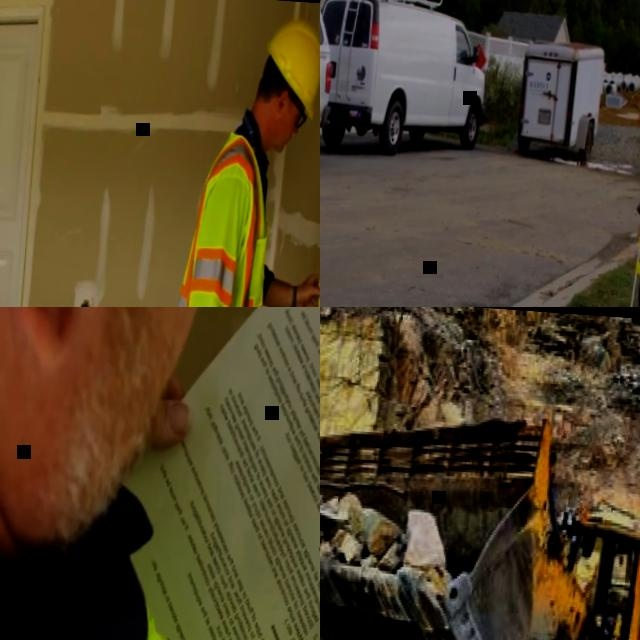Hardhat: (259, 19, 320, 119)
NO-Mask: (0, 307, 218, 559)
Person: (0, 307, 260, 640), (148, 10, 320, 307)
Safety Vest: (165, 128, 279, 307), (0, 579, 227, 640)
machinery: (320, 377, 640, 640)
vehicle: (320, 0, 495, 159)
